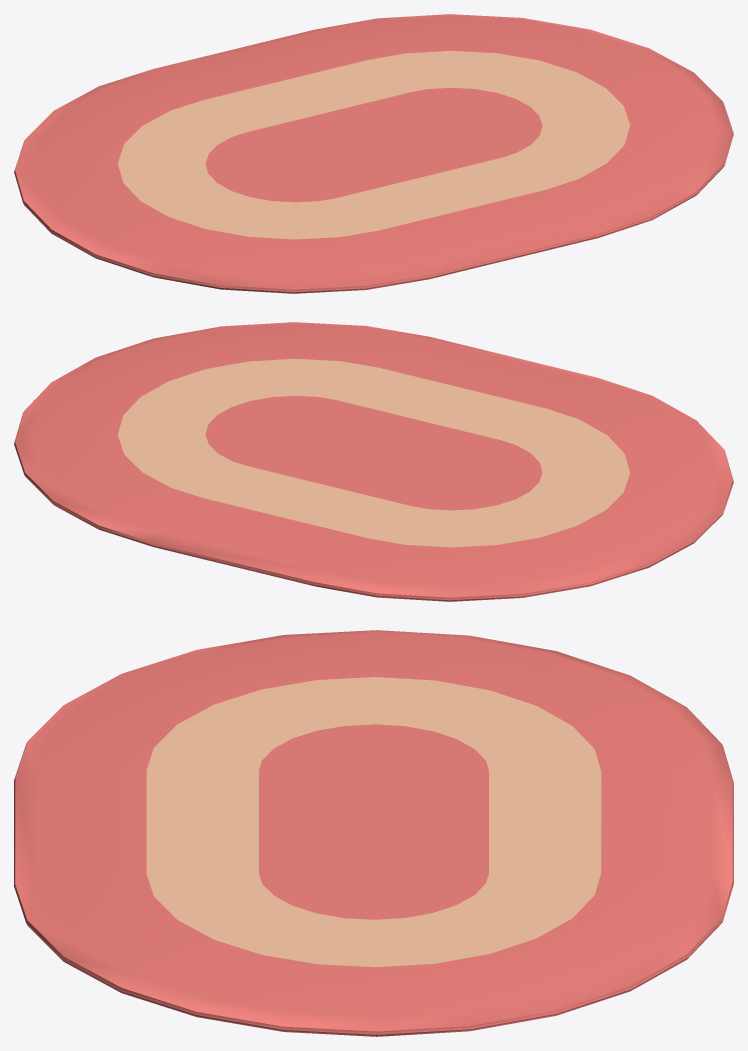
The model's file is tapete_natal_oval_pacote.glb.
The picture shows the model from 3 angles, top to bottom: view 1: azimuth 30°, elevation 25°; view 2: azimuth 150°, elevation 25°; view 3: azimuth 270°, elevation 25°; orthographic projection. The views are drawn at different scales.
Parts seen in each view (by area): view 1: tapete_natal_oval_pacote; view 2: tapete_natal_oval_pacote; view 3: tapete_natal_oval_pacote.
Boxes of the visible parts, x1=… form: tapete_natal_oval_pacote: x1=14, y1=14, x2=733, y2=293; tapete_natal_oval_pacote: x1=14, y1=322, x2=733, y2=601; tapete_natal_oval_pacote: x1=14, y1=630, x2=733, y2=1036.
Size of the model in its own units: 2.05 by 0.0366 by 1.55.
1 material, 1 textured.
